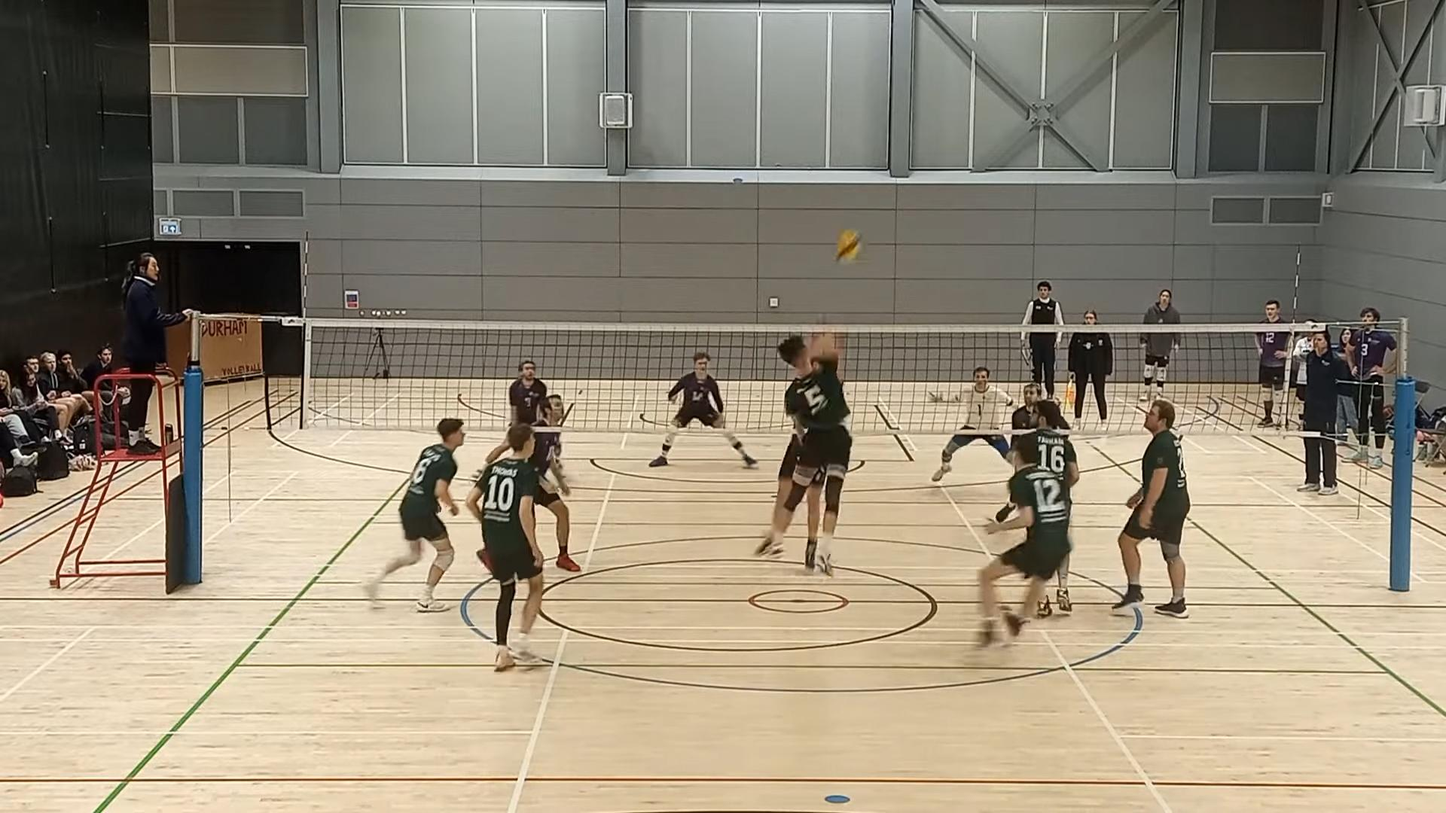Attack: (759, 330, 859, 568)
Block: (796, 311, 850, 387)
Player: (979, 434, 1070, 646), (365, 418, 464, 612), (465, 424, 543, 670), (1112, 399, 1190, 617), (649, 352, 756, 467), (931, 366, 1014, 481), (528, 396, 580, 571), (1034, 399, 1079, 499), (1005, 383, 1042, 464), (508, 360, 547, 424), (804, 470, 823, 571)
